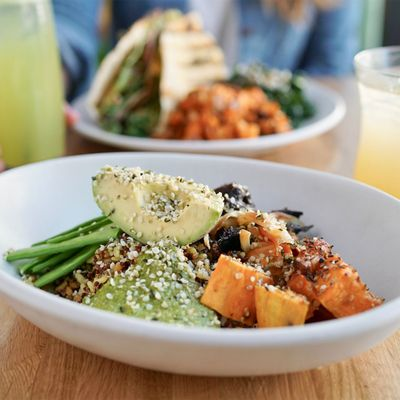curry: (82, 238, 217, 329), (4, 214, 122, 289), (229, 61, 316, 124)
sushi: (0, 154, 400, 399), (20, 24, 351, 171)
